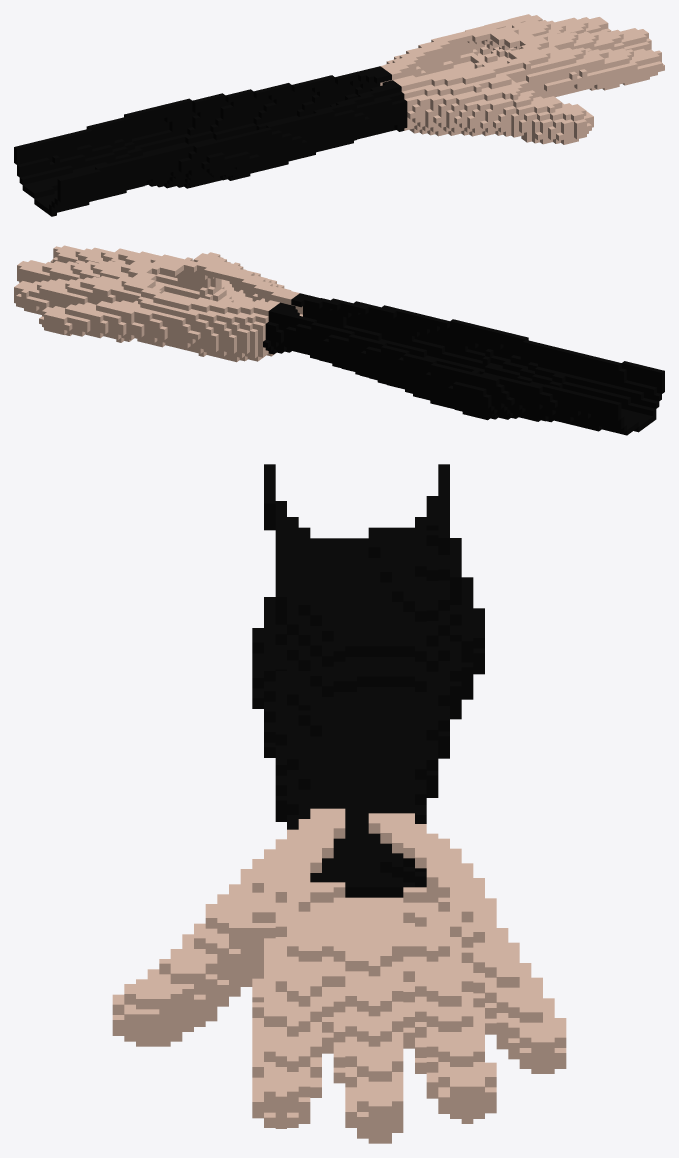
File: kun-5.obj
3 renders of one model, top to bottom at view 1: azimuth 30°, elevation 25°; view 2: azimuth 150°, elevation 25°; view 3: azimuth 270°, elevation 25°, orthographic. The views are drawn at different scales.
Size of the model in its own units: 12.2 by 1 by 3.9.
1 material, 1 textured.
